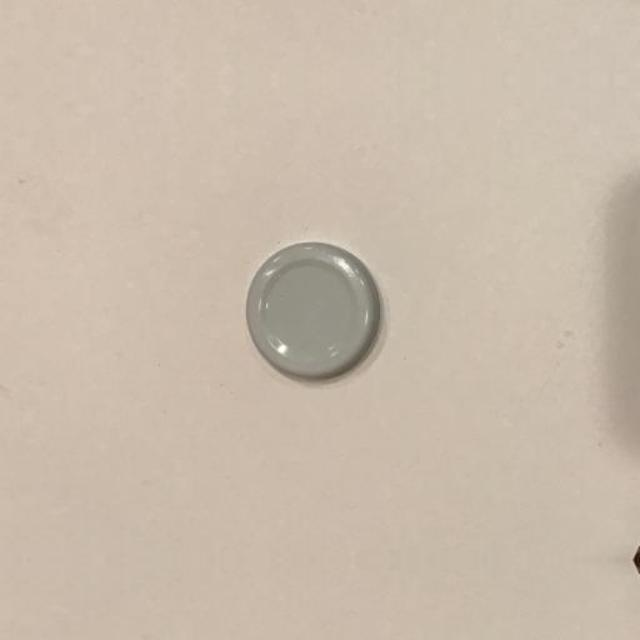Metal: (240, 230, 374, 392)
